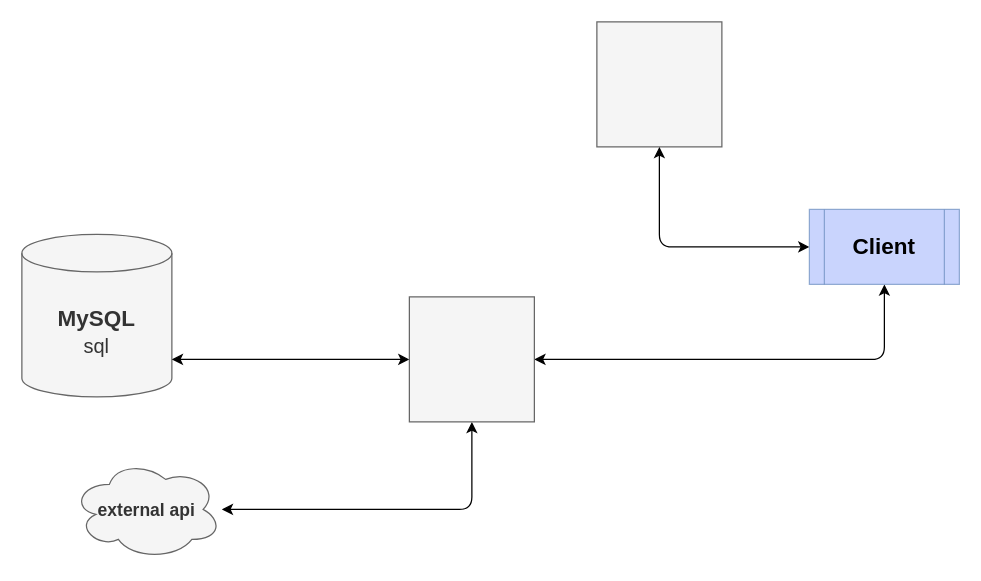
The diagram is 981 pixels wide and 581 high, and some of its shapes have lost their labels. Each missing label, with the box of its shape:
server/api nodeJS: (408, 296, 534, 422)
web server react: (596, 21, 722, 147)
